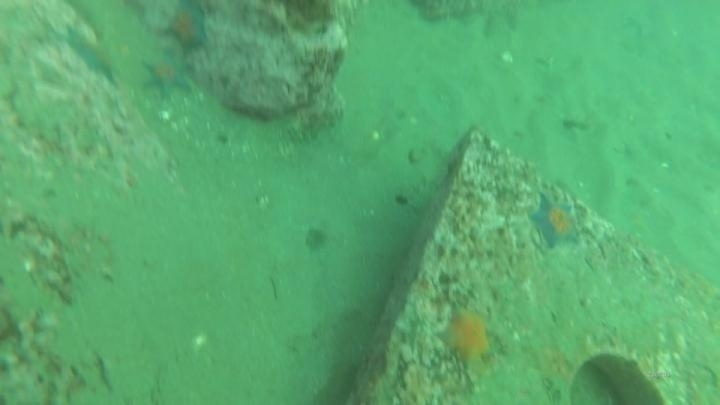starfish: (433, 302, 501, 380), (61, 24, 125, 88), (526, 192, 585, 252), (160, 1, 213, 55), (139, 50, 195, 101)
